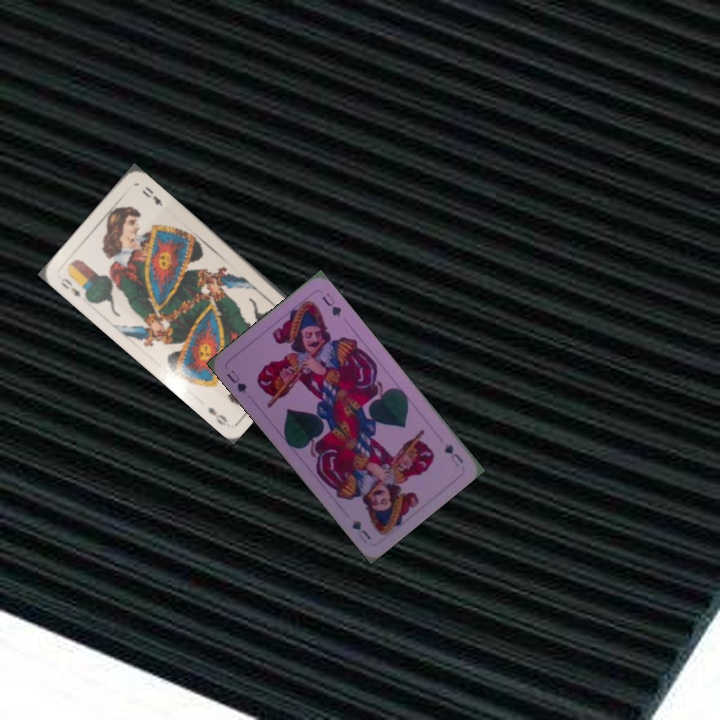EO: (56, 274, 90, 301)
GU: (222, 366, 249, 396), (440, 439, 466, 469)
